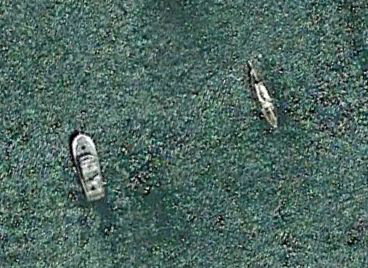boat: (71, 133, 107, 202), (251, 68, 281, 131)
